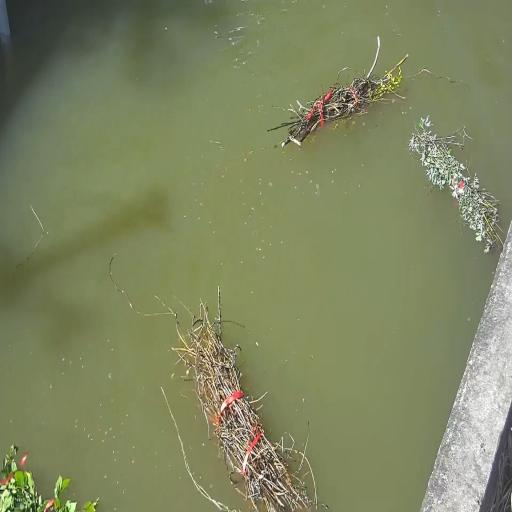twig: (173, 302, 319, 512), (267, 37, 408, 147), (408, 116, 501, 252), (0, 445, 80, 512), (81, 499, 98, 512)
